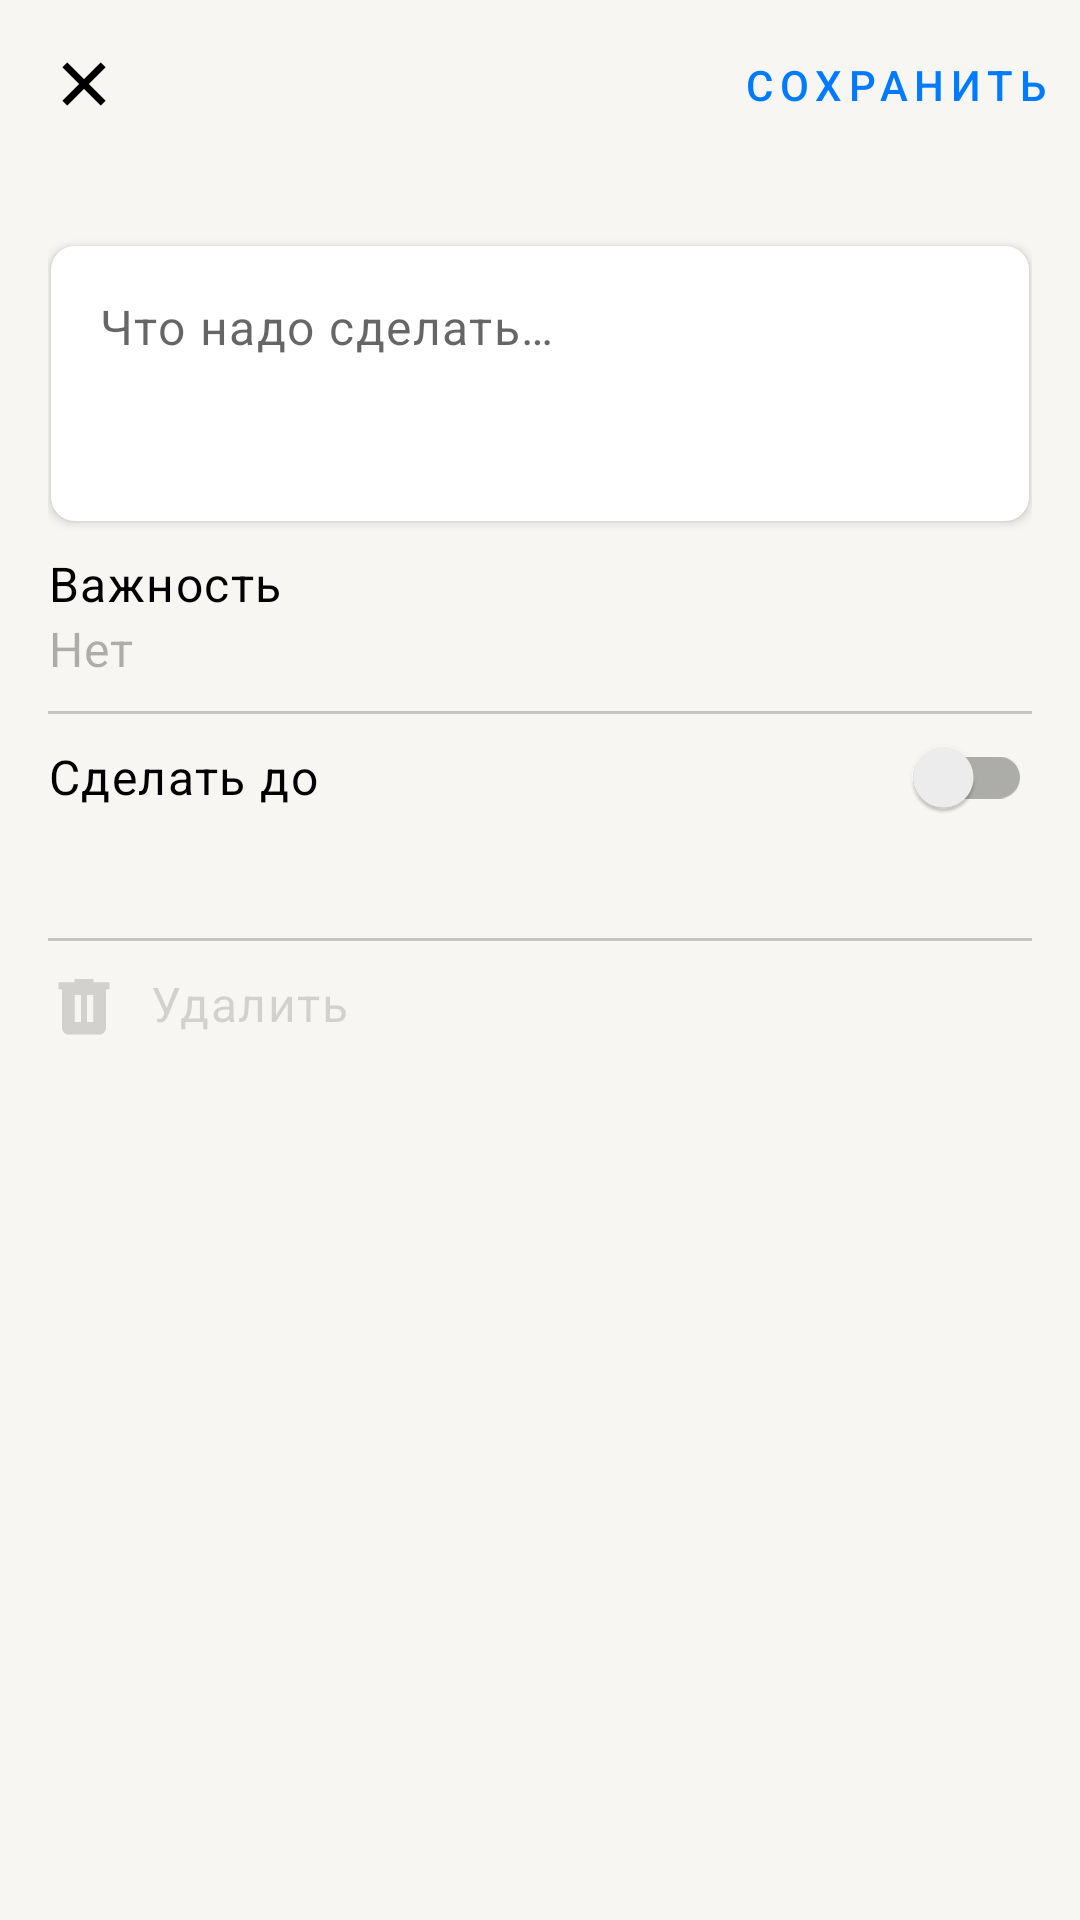

Where icons sit on this 1080px x 1920px app screen, as (x1, y1, x2, y2):
Отменить: (62, 62, 106, 106)
